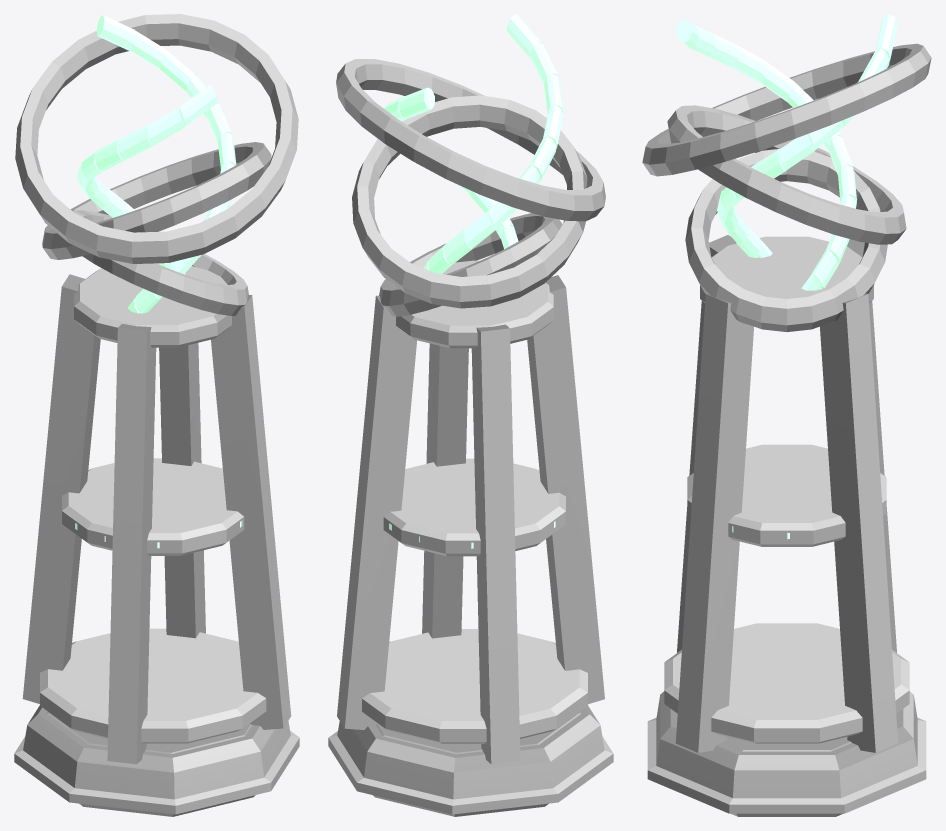
File: vortex.glb
The picture shows the model from 3 angles, left to right: view 1: azimuth 30°, elevation 25°; view 2: azimuth 150°, elevation 25°; view 3: azimuth 270°, elevation 25°; orthographic projection. The views are drawn at different scales.
Parts seen in each view (by area): view 1: vortex.001; view 2: vortex.001; view 3: vortex.001.
Part boxes in pixels (x1,y1,x2,y2): vortex.001: [14, 14, 299, 816]; vortex.001: [328, 14, 613, 816]; vortex.001: [642, 14, 931, 816].
Size of the model in its own units: 1.1 by 3.13 by 1.09.
